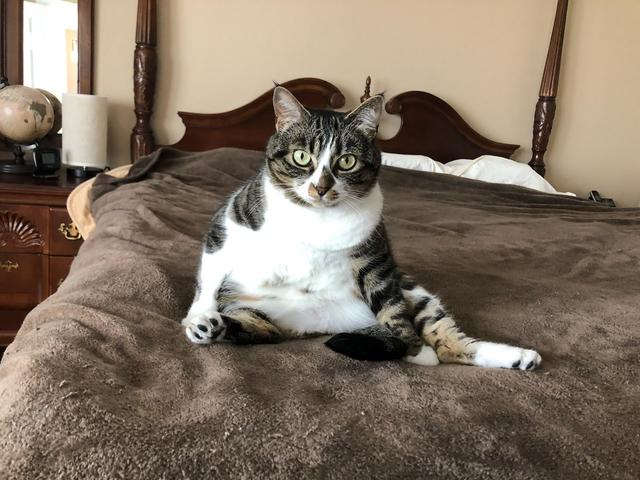playdoh: (177, 80, 541, 379)
